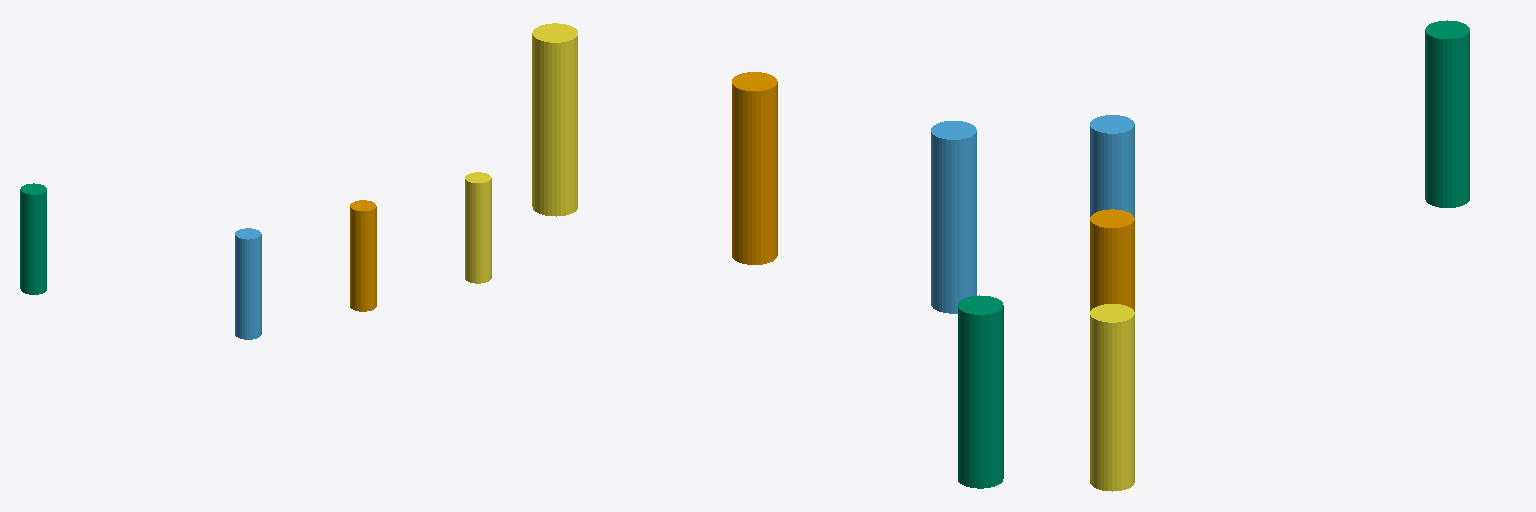
The robot description file, URDF, robot "four_bar_linkage_mechanism":
<?xml version="1.0" ?>
<robot name="four_bar_linkage_mechanism">
  <link name="coupler_link">
    <visual>
      <geometry>
        <cylinder radius="0.006" length="0.05"/>
      </geometry>
    </visual>
  </link>
  <link name="first_rotating_link">
    <visual>
      <geometry>
        <cylinder radius="0.006" length="0.05"/>
      </geometry>
    </visual>
  </link>
  <link name="fixed_link">
    <visual>
      <geometry>
        <cylinder radius="0.006" length="0.05"/>
      </geometry>
    </visual>
  </link>
  <link name="second_rotating_link">
    <visual>
      <geometry>
        <cylinder radius="0.006" length="0.05"/>
      </geometry>
    </visual>
  </link>
  <joint name="_attach_fixed_link_to_coupler_link" type="fixed">
    <parent link="fixed_link"/>
    <child link="coupler_link"/>
    <origin xyz="0.1200 -0.0900 0.0000" rpy="0 0 0"/>
  </joint>
  <joint name="_attach_fixed_link_to_first_rotating_link" type="fixed">
    <parent link="fixed_link"/>
    <child link="first_rotating_link"/>
    <origin xyz="0.0600 -0.0900 0.0000" rpy="0 0 0"/>
  </joint>
  <joint name="_attach_fixed_link_to_second_rotating_link" type="fixed">
    <parent link="fixed_link"/>
    <child link="second_rotating_link"/>
    <origin xyz="0.1800 -0.0900 0.0000" rpy="0 0 0"/>
  </joint>
</robot>

--- What the picture shows (computed from the rendered views, not written in the file) ---
Views: 3 orthographic renders of the robot side by side, from view 1: azimuth 30°, elevation 25°; view 2: azimuth 150°, elevation 25°; view 3: azimuth 270°, elevation 25°.
Model four_bar_linkage_mechanism with 4 links and 3 joints (3 fixed), rooted at fixed_link, posed all joints at 0.
Links seen in each view (by area): view 1: coupler_link, first_rotating_link, second_rotating_link, fixed_link; view 2: coupler_link, fixed_link, second_rotating_link, first_rotating_link; view 3: fixed_link, second_rotating_link, first_rotating_link, coupler_link.
Link boxes in pixels (box(x1,y1,x2,y2)): coupler_link: box(350, 200, 376, 311); first_rotating_link: box(235, 228, 261, 339); second_rotating_link: box(465, 172, 491, 283); fixed_link: box(20, 183, 46, 294); coupler_link: box(732, 72, 777, 264); fixed_link: box(958, 295, 1003, 488); second_rotating_link: box(532, 23, 577, 216); first_rotating_link: box(931, 121, 976, 313); fixed_link: box(1425, 20, 1469, 207); second_rotating_link: box(1090, 304, 1134, 491); first_rotating_link: box(1090, 115, 1134, 217); coupler_link: box(1090, 209, 1134, 311).
Bounding box of the posed robot: 0.192 × 0.102 × 0.05 m (x, y, z).
Geometry: primitives only (box / cylinder / sphere), no mesh files.
